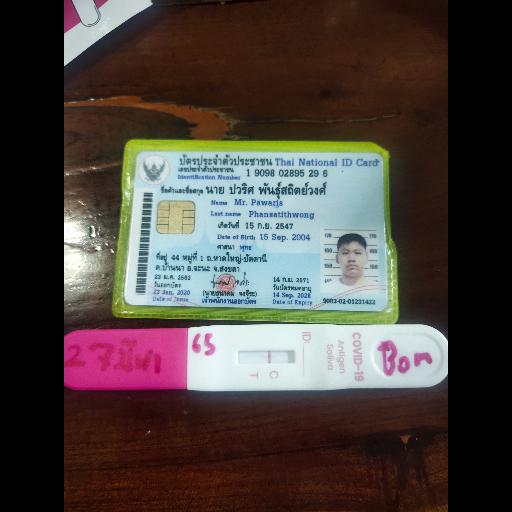Neg: (64, 326, 446, 388)
